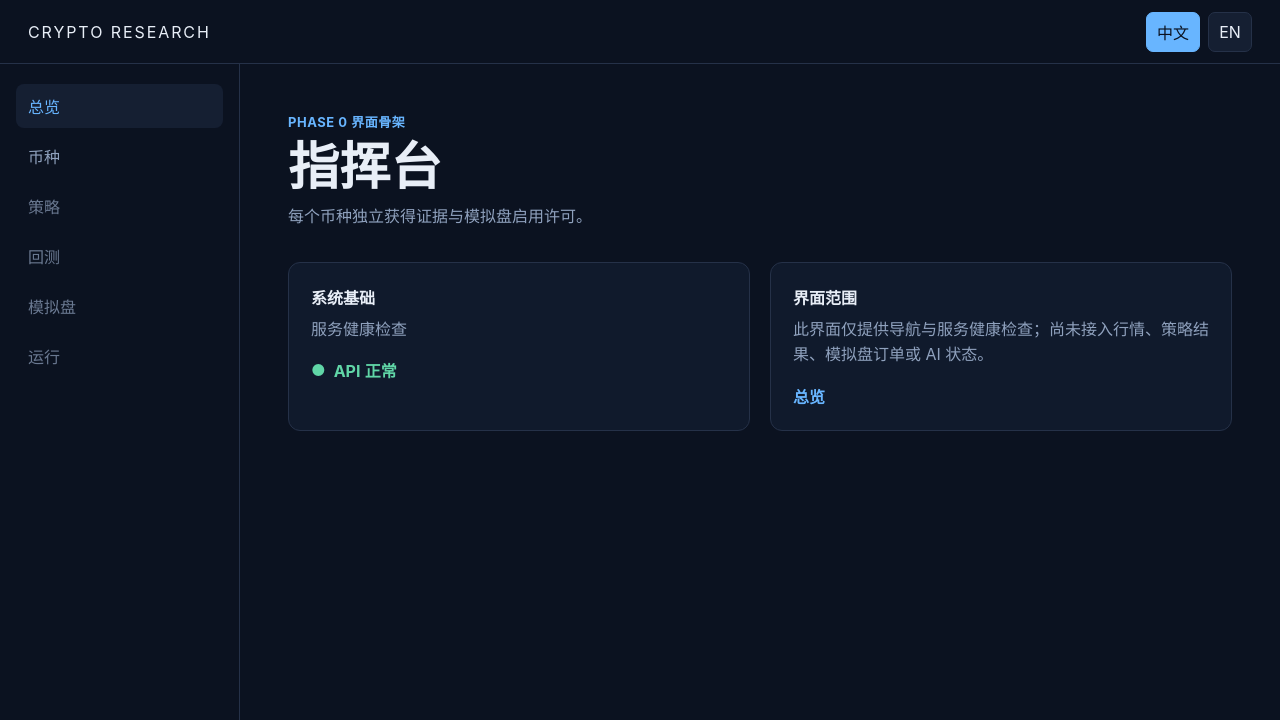
Test: enables the symbols navigation and marks the data console as current
The image size is (1280, 720).
Step 1. Click the link "币种" → (44, 157), box [28,147,60,167]
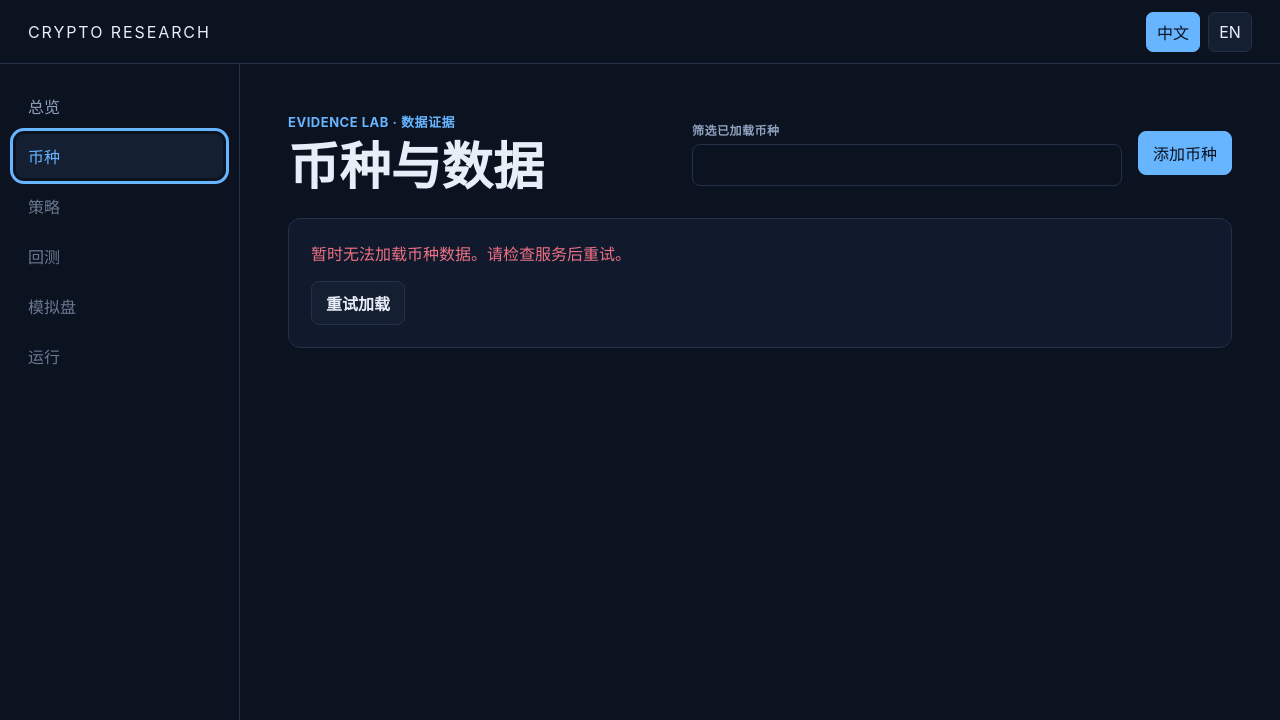
expect the button with aria-label "策略（尚未开放）" is disabled: met, box [16,184,223,228]
expect the heading "币种与数据" is shown: met, box [288,139,544,194]
